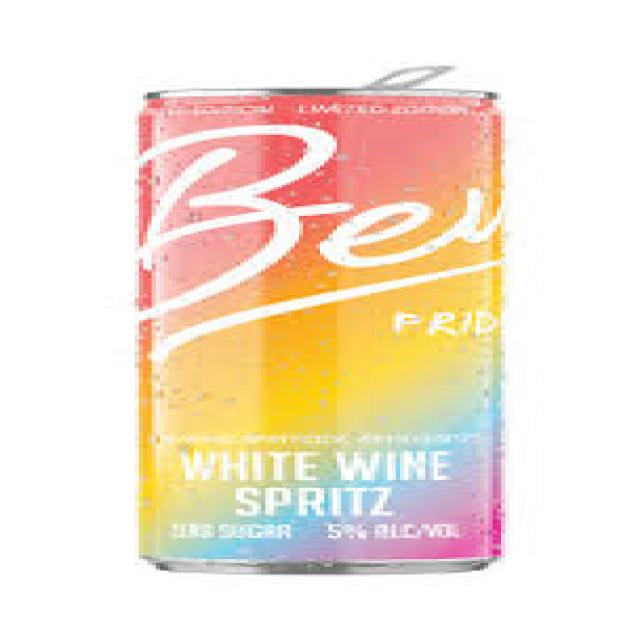Cans: (122, 77, 522, 580)
